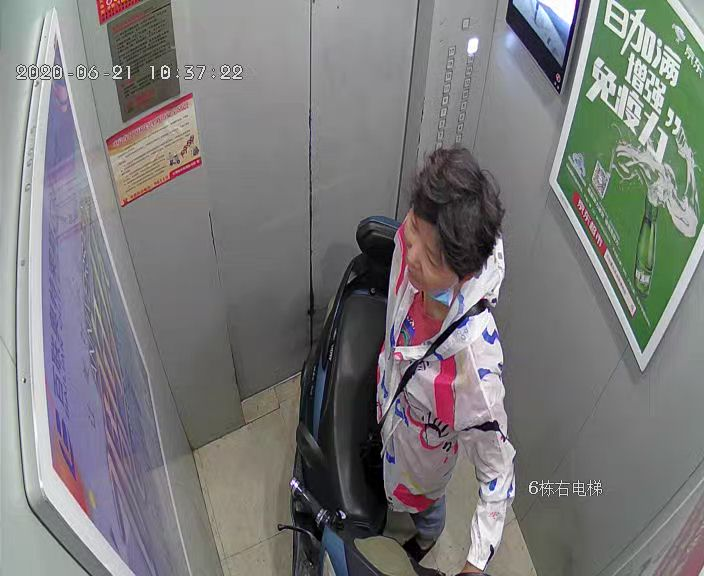Electric-bicycle: (275, 214, 450, 576)
